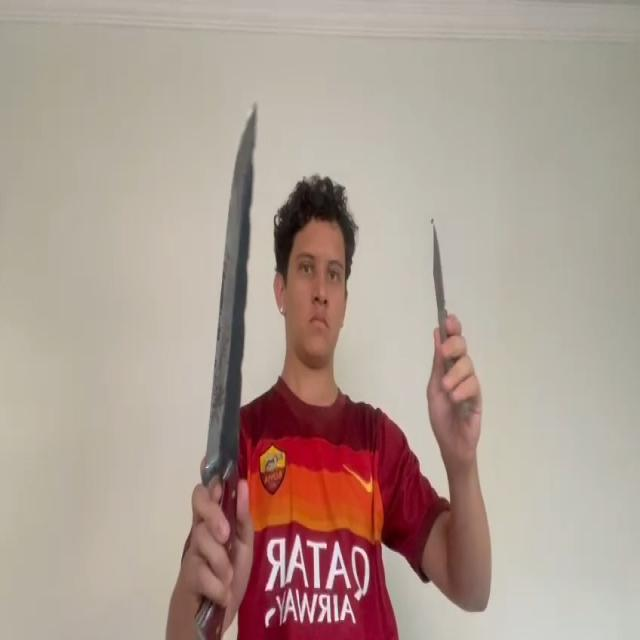knife: (204, 102, 258, 474), (432, 226, 446, 306)
